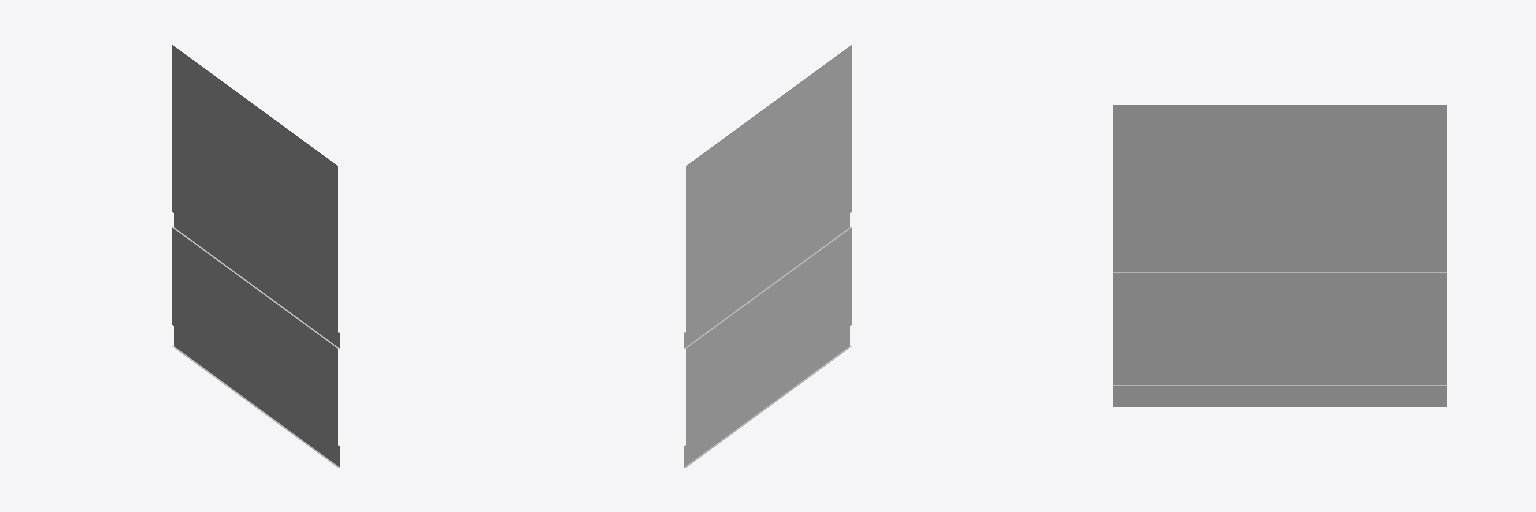
The model's file is new_wall02.obj.
3 renders of one model, left to right at view 1: azimuth 30°, elevation 25°; view 2: azimuth 150°, elevation 25°; view 3: azimuth 270°, elevation 25°, orthographic.
Visible parts, largest first — view 1: pPlane31; view 2: pPlane31; view 3: pPlane31.
Part boxes in pixels (bbox=[...]): pPlane31: bbox=[172, 45, 339, 467]; pPlane31: bbox=[684, 45, 851, 467]; pPlane31: bbox=[1113, 105, 1446, 406].
Bounding box in the file's own units: 0.4644 × 70 × 70.